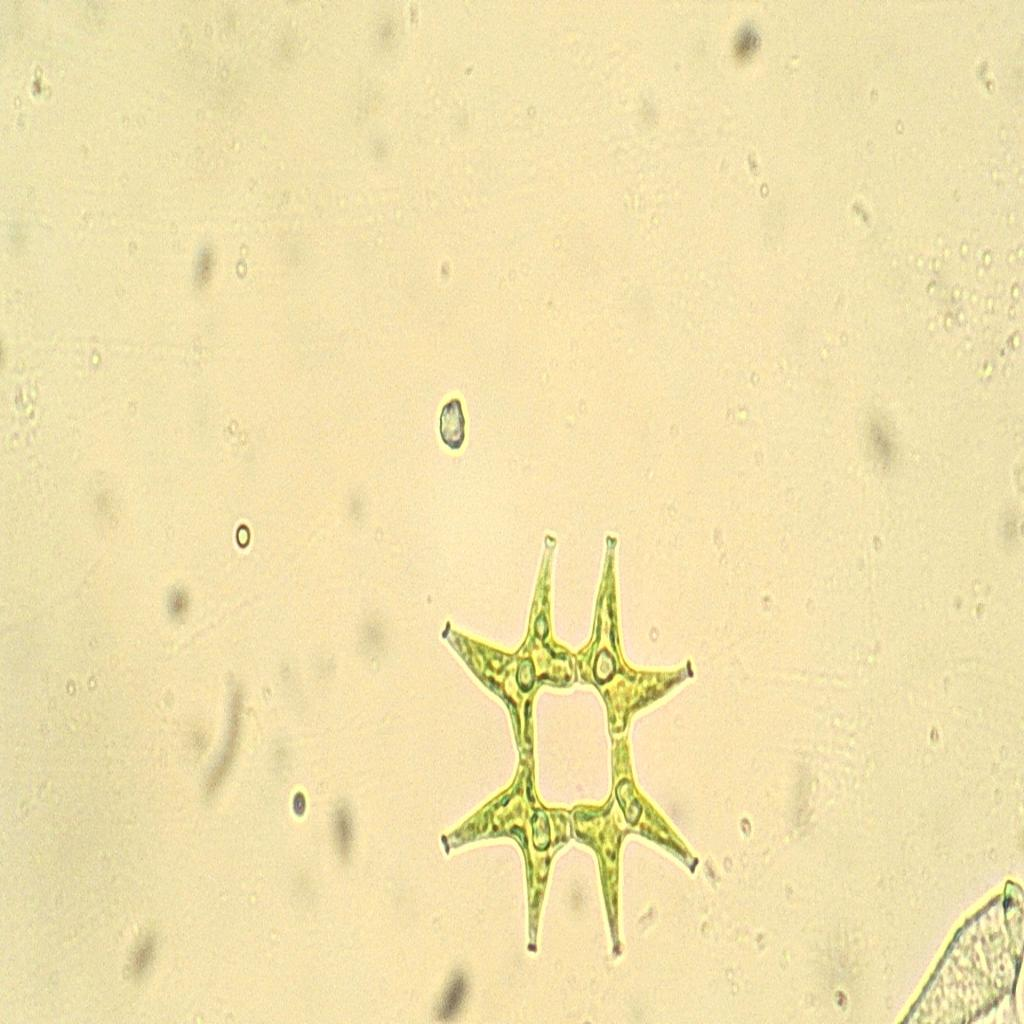Pediastrum_CO: (430, 496, 706, 996)
